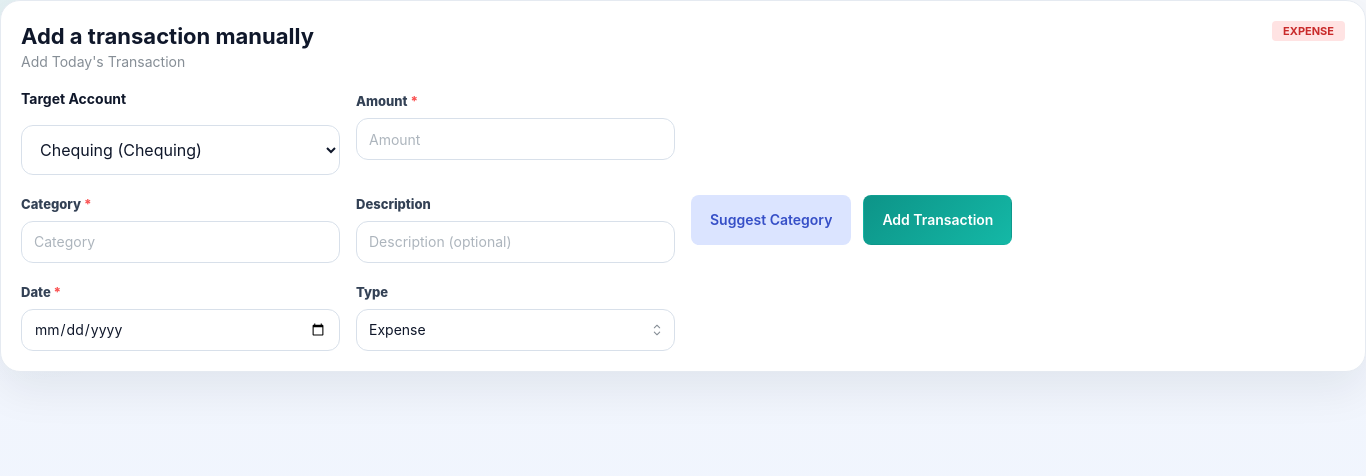
TransactionForm account resolution › surfaces the real server reason instead of a generic message
In the number field with placeholder "Amount": (516, 139) [356,118,675,160], type "1200"
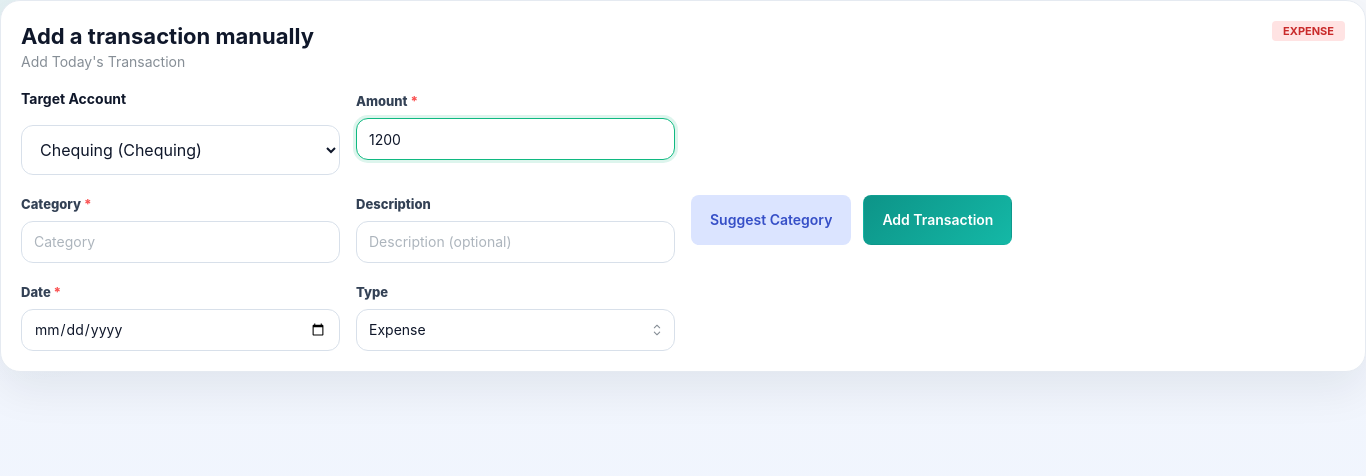
In the dropdown with placeholder "Category": (180, 242) [21,221,340,263], type "s"
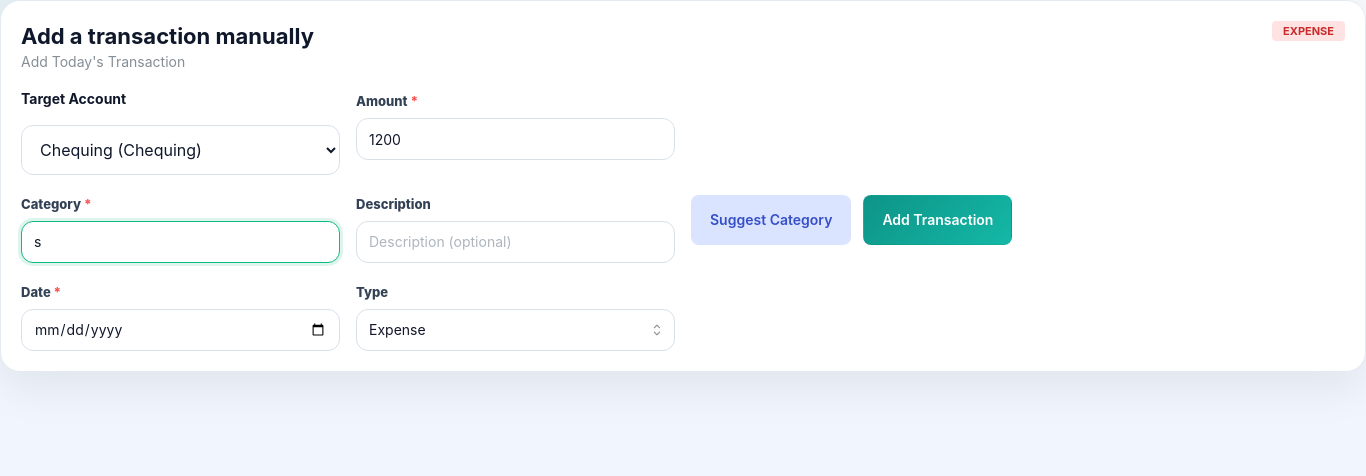
In the date field labelled "Date *": (180, 330) [21,309,340,351], type "2026-06-15"
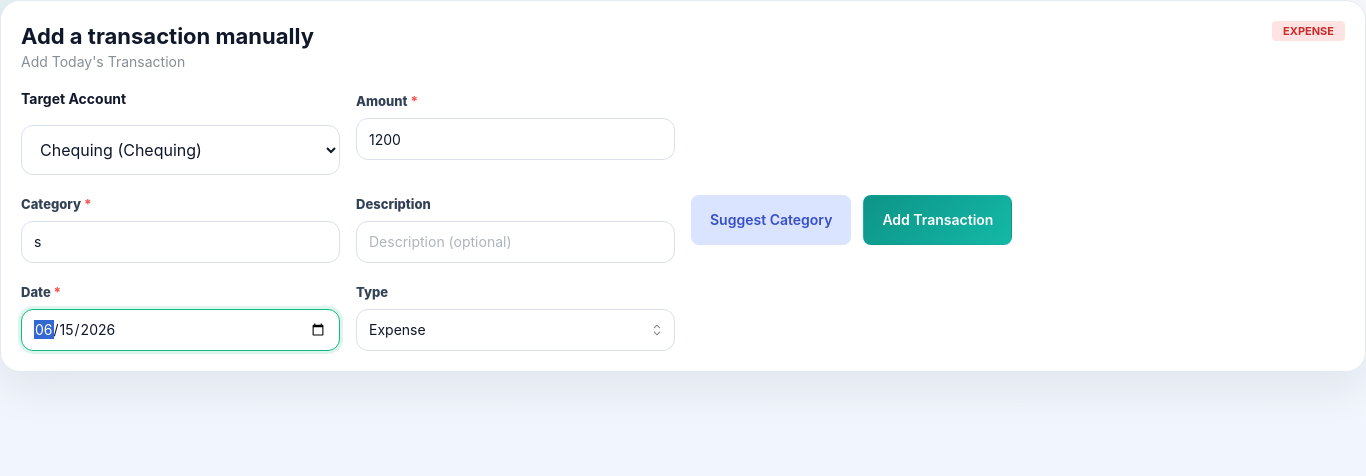
Click the button "Add Transaction": (938, 220) [863,195,1012,245]
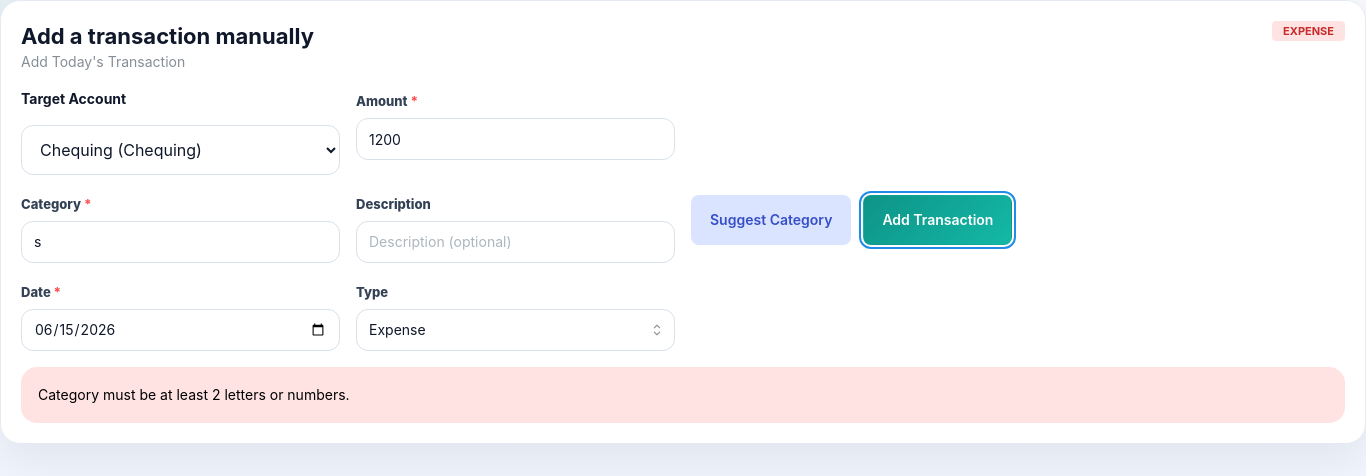
Check: the text "Category must be at least 2 letters or numbers." is shown, box [38,386,350,403]
